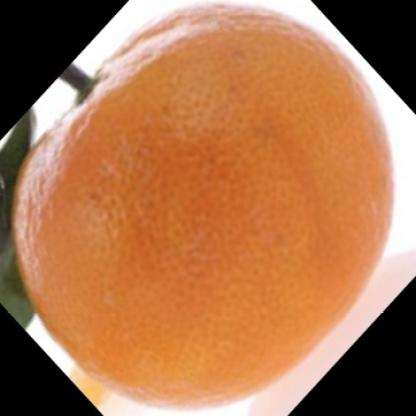fresh: (12, 9, 392, 405)
